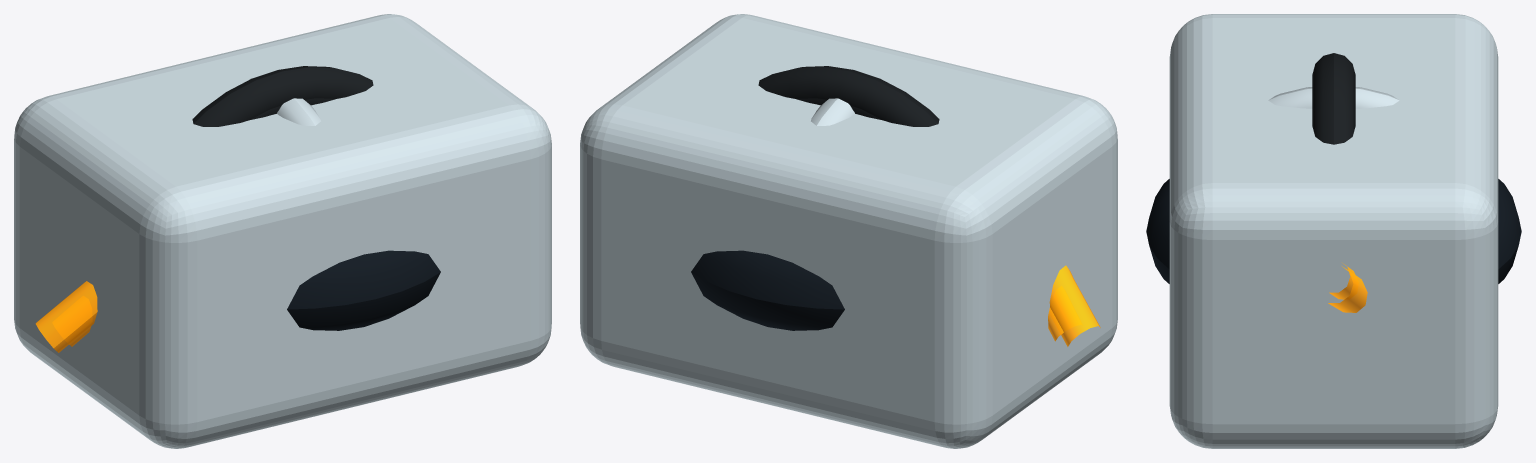
File: remaining_systems_03.glb
3 renders of one model, left to right at view 1: azimuth 30°, elevation 25°; view 2: azimuth 150°, elevation 25°; view 3: azimuth 270°, elevation 25°, orthographic.
Visible parts, largest first — view 1: asset_mesh__remaining_systems_0278__reference_body, asset_mesh__remaining_systems_0276__tire, asset_mesh__remaining_systems_0332__service_element, asset_mesh__remaining_systems_0410__fluid_path, asset_mesh__remaining_systems_0375__functional_ring; view 2: asset_mesh__remaining_systems_0278__reference_body, asset_mesh__remaining_systems_0276__tire, asset_mesh__remaining_systems_0332__service_element, asset_mesh__remaining_systems_0410__fluid_path, asset_mesh__remaining_systems_0375__functional_ring; view 3: asset_mesh__remaining_systems_0278__reference_body, asset_mesh__remaining_systems_0332__service_element, asset_mesh__remaining_systems_0276__tire, asset_mesh__remaining_systems_0375__functional_ring, asset_mesh__remaining_systems_0410__fluid_path.
Part boxes in pixels (x1,y1,x2,y2): asset_mesh__remaining_systems_0278__reference_body: [14, 14, 551, 448]; asset_mesh__remaining_systems_0276__tire: [287, 250, 440, 330]; asset_mesh__remaining_systems_0332__service_element: [192, 66, 373, 126]; asset_mesh__remaining_systems_0410__fluid_path: [35, 281, 97, 352]; asset_mesh__remaining_systems_0375__functional_ring: [249, 78, 320, 125]; asset_mesh__remaining_systems_0278__reference_body: [580, 14, 1117, 448]; asset_mesh__remaining_systems_0276__tire: [691, 250, 844, 330]; asset_mesh__remaining_systems_0332__service_element: [758, 66, 939, 126]; asset_mesh__remaining_systems_0410__fluid_path: [1049, 265, 1100, 346]; asset_mesh__remaining_systems_0375__functional_ring: [811, 78, 882, 125]; asset_mesh__remaining_systems_0278__reference_body: [1169, 14, 1498, 448]; asset_mesh__remaining_systems_0332__service_element: [1312, 53, 1355, 144]; asset_mesh__remaining_systems_0276__tire: [1146, 179, 1521, 283]; asset_mesh__remaining_systems_0375__functional_ring: [1268, 87, 1399, 108]; asset_mesh__remaining_systems_0410__fluid_path: [1328, 266, 1367, 312].
Bounding box in the file's own units: 1.47 × 0.9164 × 0.96.
